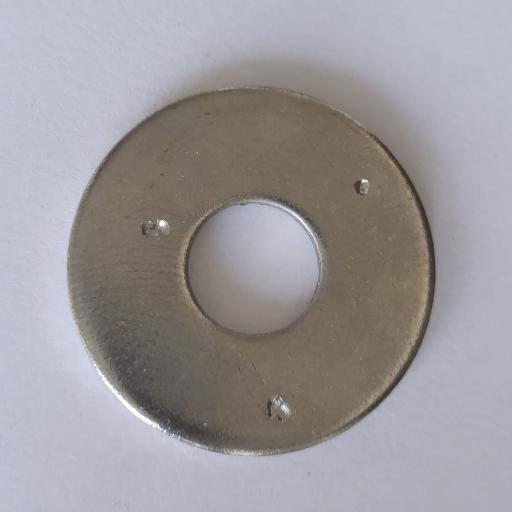circular_cavity: (266, 392, 294, 423), (139, 217, 171, 242), (353, 178, 370, 197)
